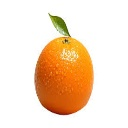orange: (34, 13, 94, 115)
